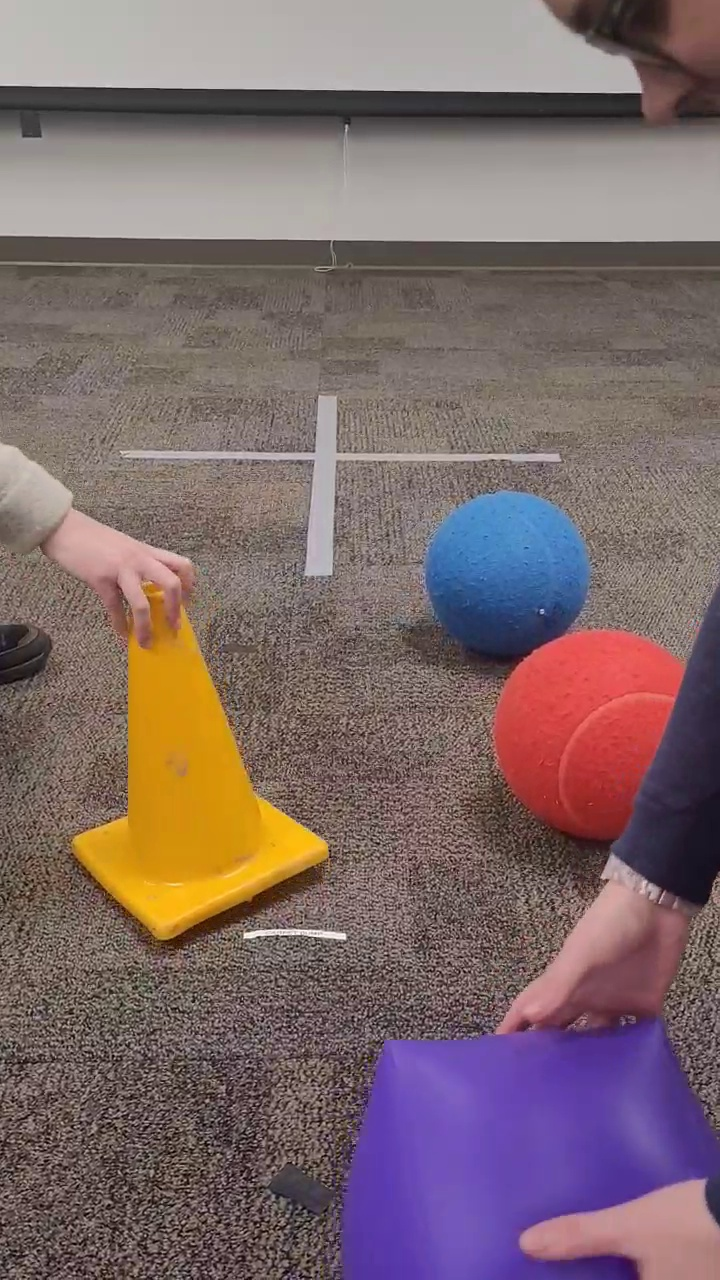ball: (494, 627, 690, 844), (424, 490, 590, 657)
cone: (65, 576, 332, 948)
cube: (336, 1018, 718, 1278)
face: (534, 2, 719, 157)
foot: (1, 620, 54, 682)
hand: (493, 577, 720, 1036), (1, 434, 203, 654), (514, 1175, 720, 1278)
